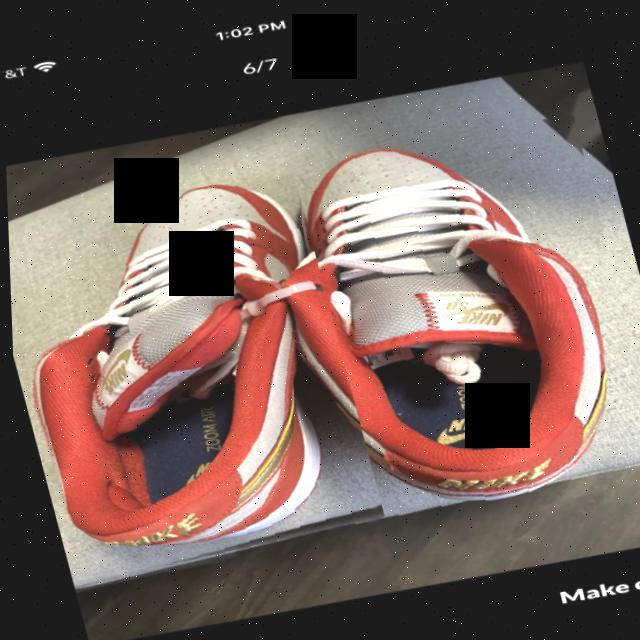shoe: (238, 87, 640, 549), (5, 155, 385, 595)
